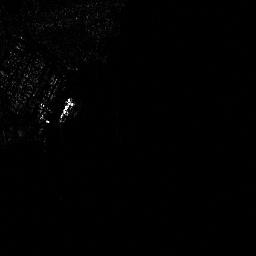ship: (58, 96, 75, 123)
